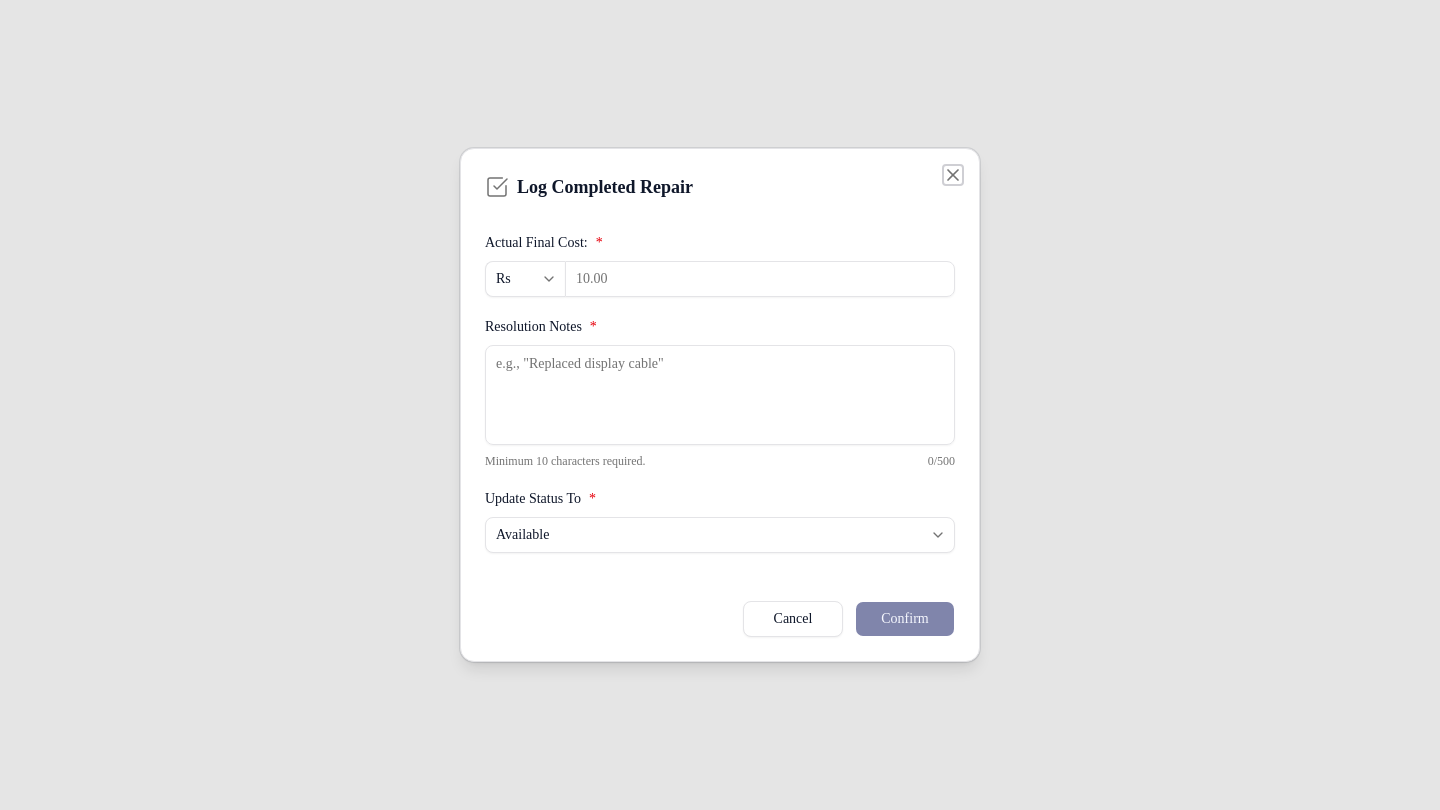
it: LogCompleteRepairDialog › keeps submit disabled until the notes meet the ten-character minimum
The image size is (1440, 810).
Step 1. Type "250.00" into the number field with placeholder "10.00" → {"x": 760, "y": 279}, box [565, 261, 955, 297]
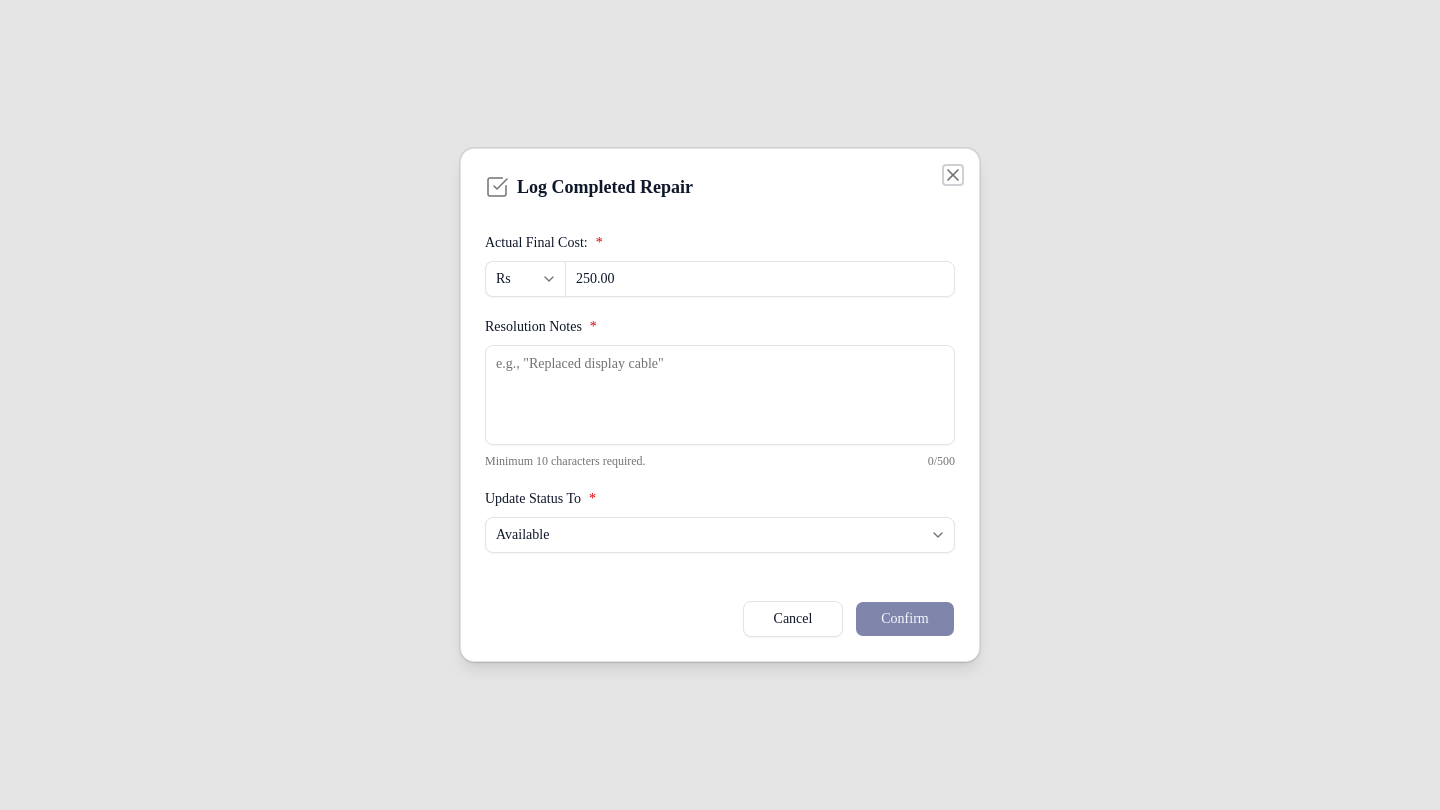
Step 2. Type "too short" into the text box with placeholder "e.g., \"Replaced display cable\"" → {"x": 720, "y": 395}, box [485, 345, 955, 445]
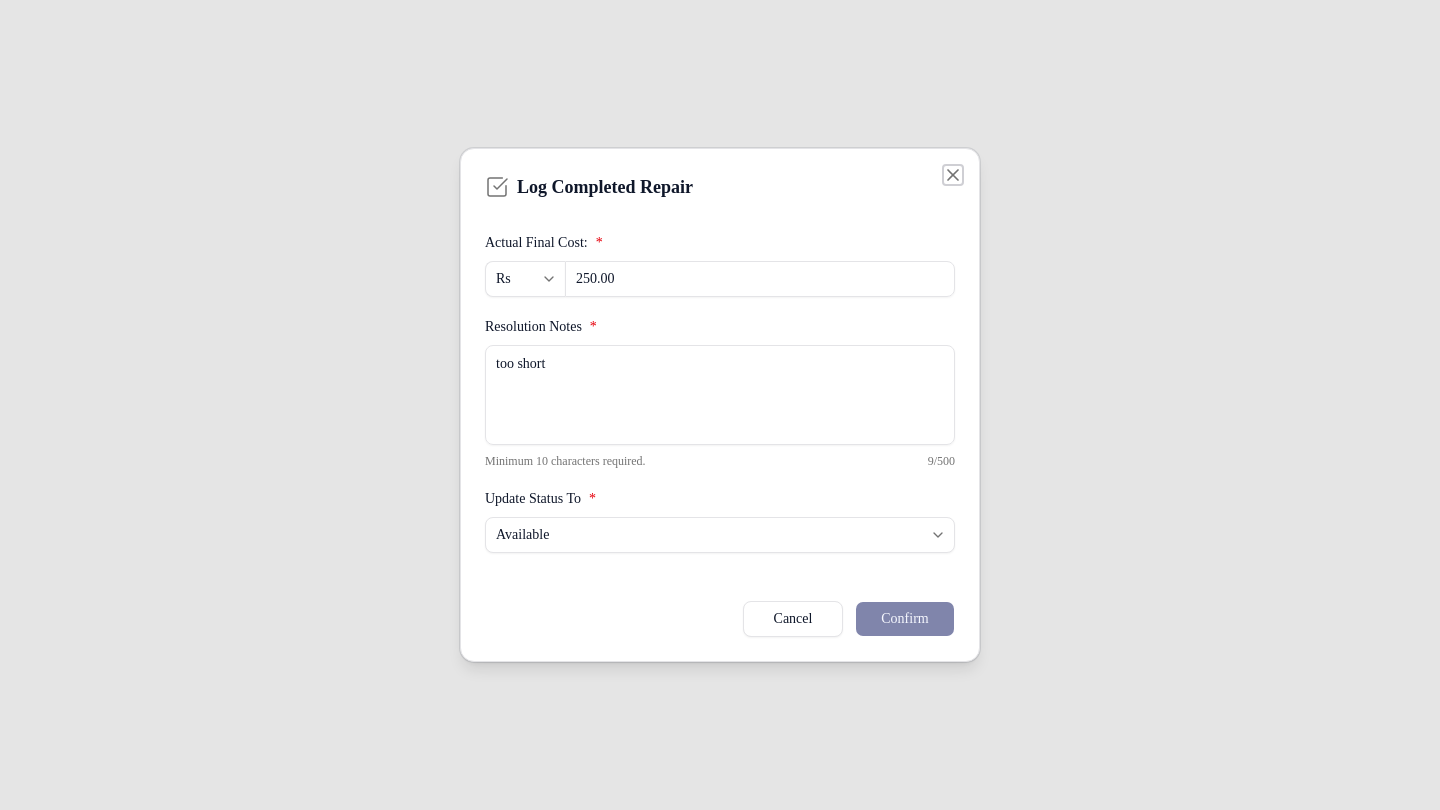
Expected: the button "Confirm" is disabled, [855, 601, 955, 637]
Result: the text "9/500" is shown at [928, 453, 955, 469]
